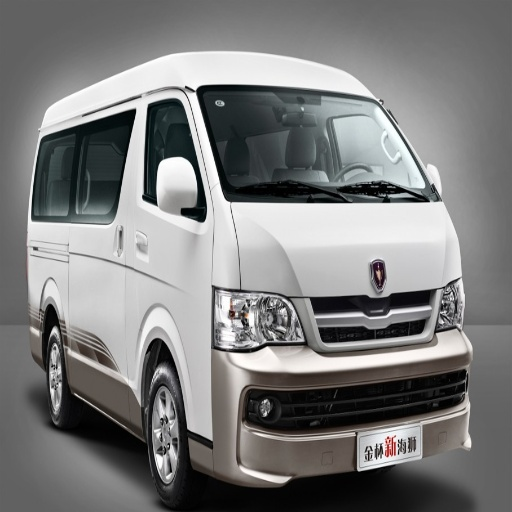front_bumper: (188, 285, 473, 488)
front_glass: (196, 86, 432, 200)
front_right_door: (122, 93, 212, 293), (95, 349, 131, 410)
front_right_light: (213, 291, 303, 351)
hood: (236, 202, 460, 298)
trunk: (32, 226, 177, 395)
